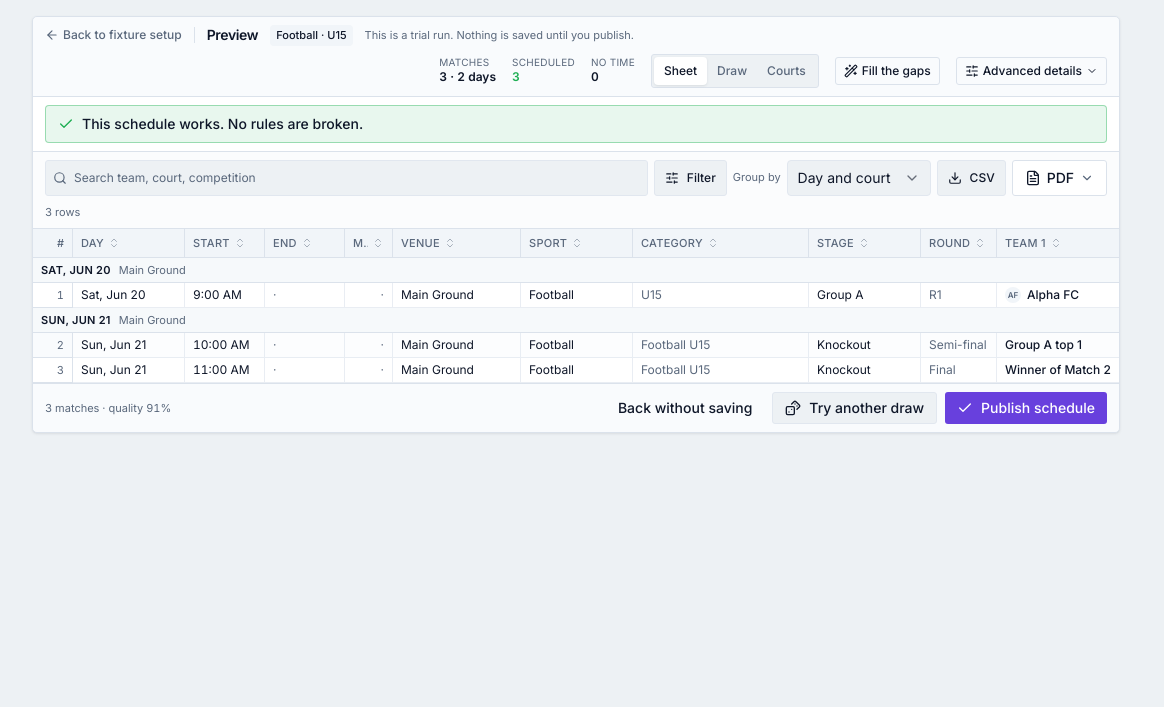
Test: DryRunPreviewPage › moves between the sheet, the group stage and the knockout
Expected: the row with test id "sheet-row-g1" is shown, [33, 283, 1119, 308]
Click the radio button with test id "preview-view-draw" at (732, 70), box [707, 56, 757, 84]
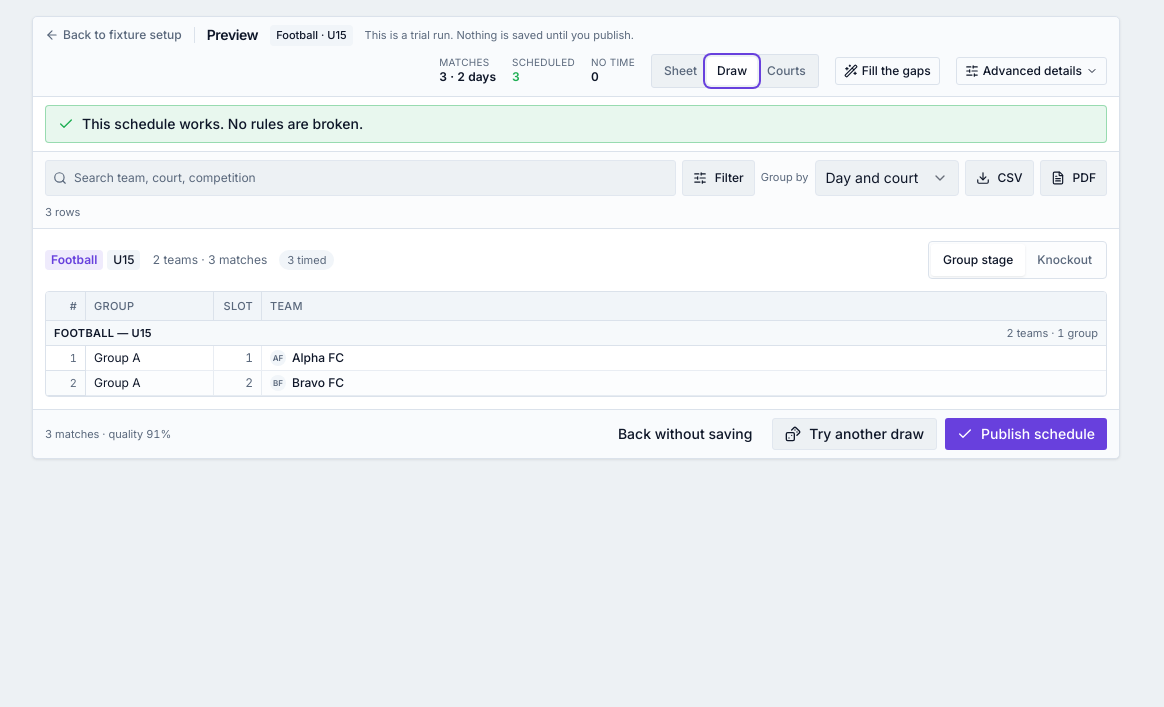
Expected: the element with test id "stage-groups" is shown, [45, 291, 1107, 397]
Knockout tab, then back to the groups.
Click the radio button with test id "stage-tab-knockout" at (1065, 260), box [1025, 244, 1104, 276]
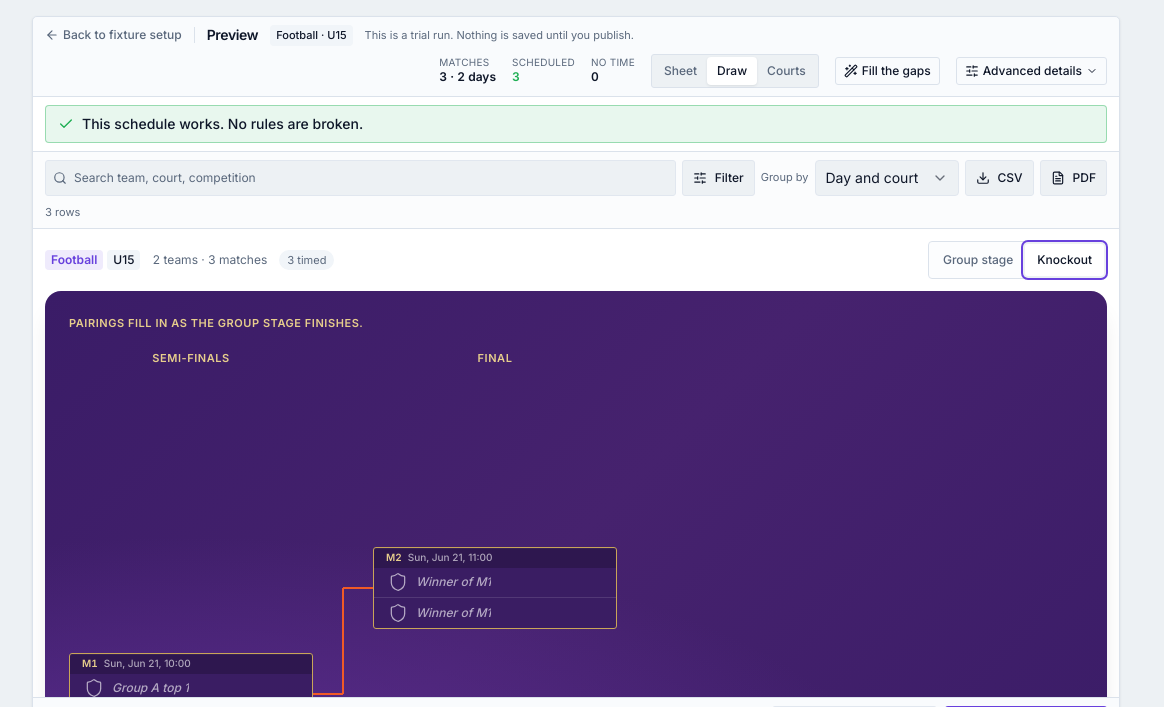
Expected: the element with test id "preview-bracket" is shown, [45, 291, 1107, 697]
Click the radio button with test id "stage-tab-groups" at (978, 260), box [931, 244, 1025, 276]
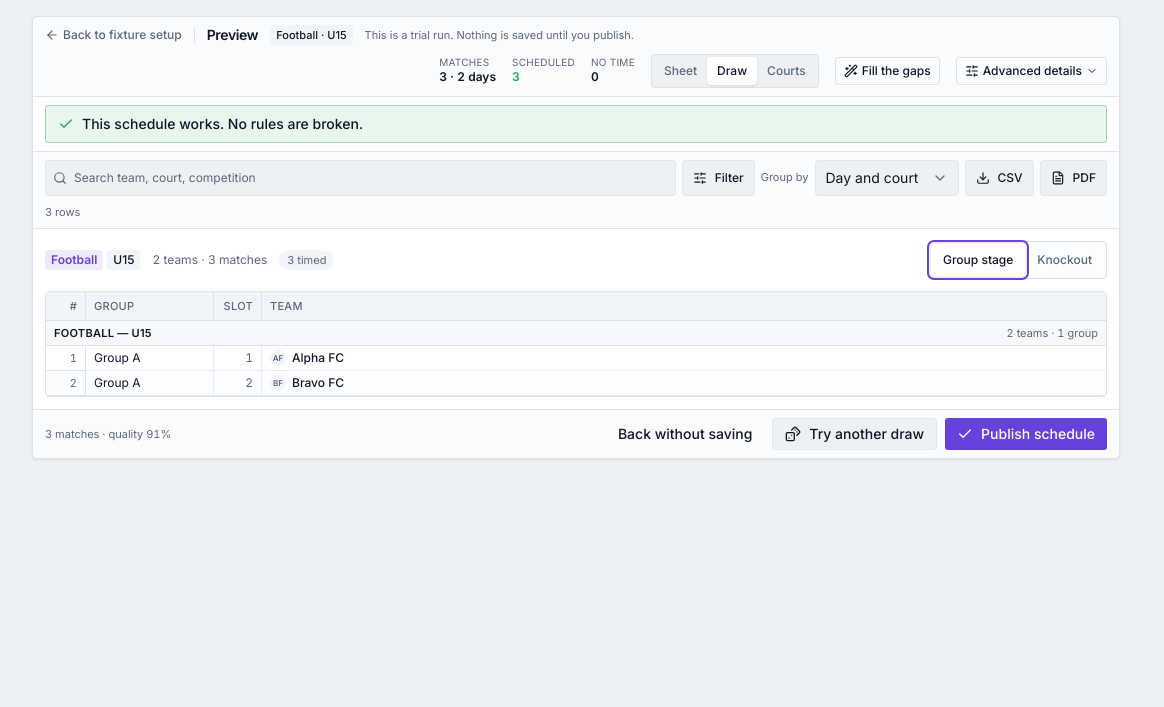
Expected: the element with test id "stage-groups" is shown, [45, 291, 1107, 397]
Back to the spreadsheet.
Click the radio button with test id "preview-view-sheet" at (680, 70), box [654, 56, 707, 84]
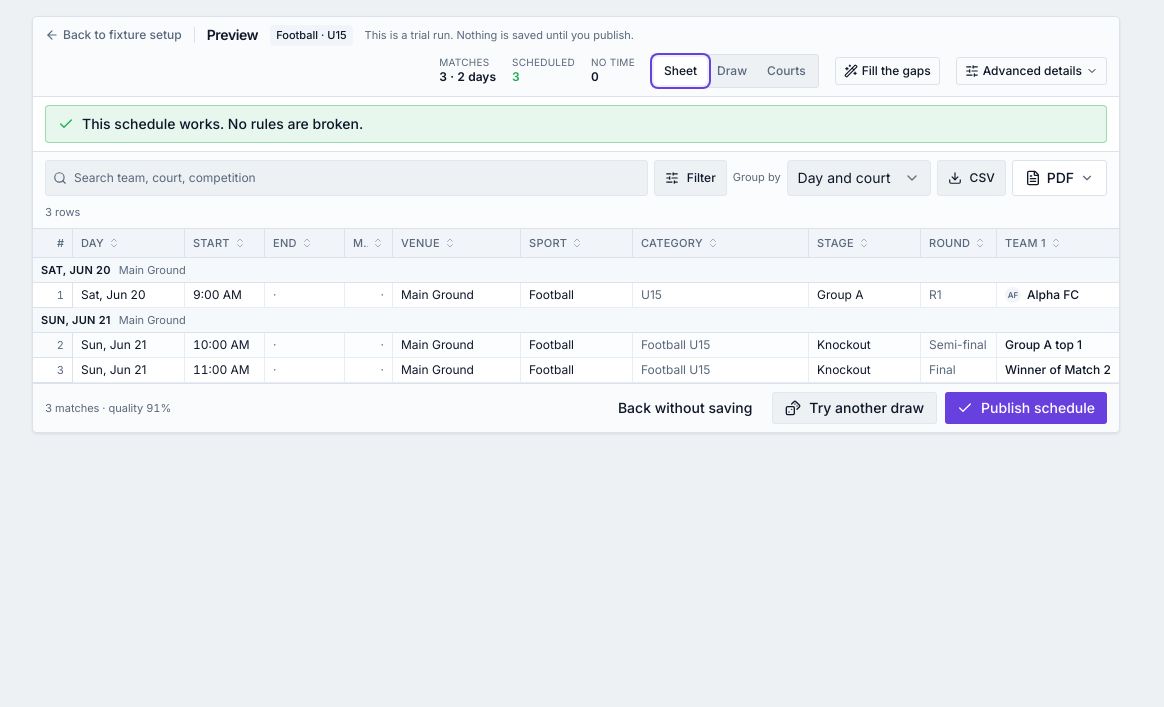
Expected: the row with test id "sheet-row-g1" is shown, [33, 283, 1119, 308]
